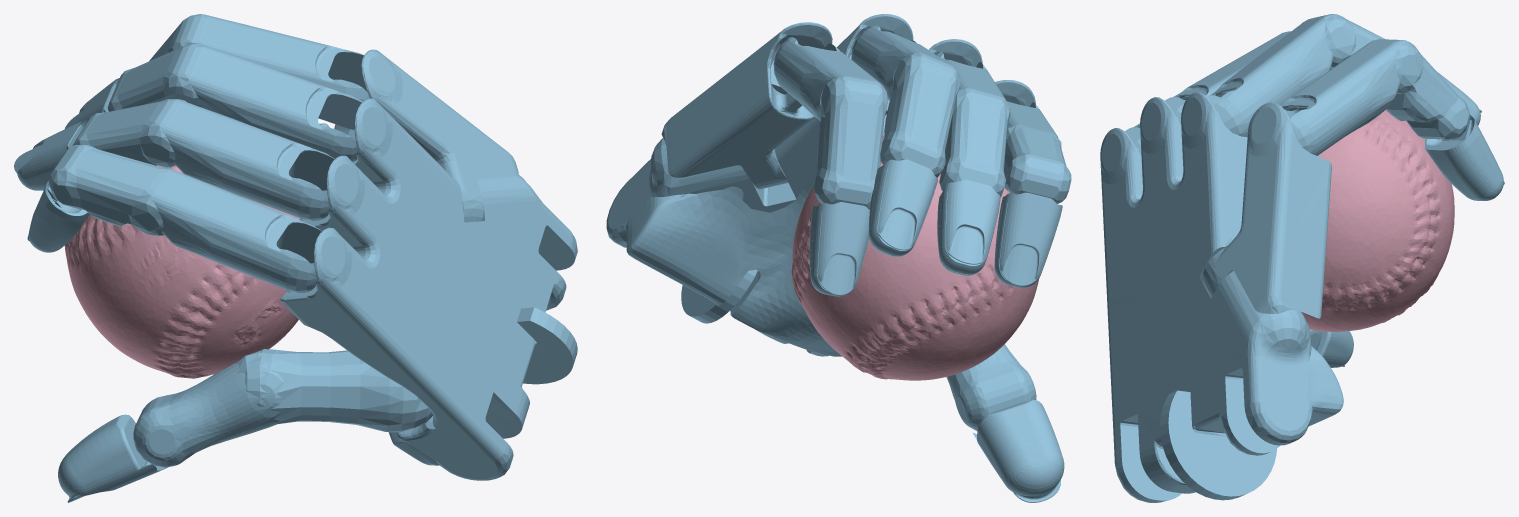
3 renders of one model, left to right at view 1: azimuth 30°, elevation 25°; view 2: azimuth 150°, elevation 25°; view 3: azimuth 270°, elevation 25°, orthographic. The views are drawn at different scales.
Parts seen in each view (by area): view 1: world; view 2: world; view 3: world.
Part boxes in pixels (box(x1,y1,x2,y2)): world: box(14, 14, 577, 502); world: box(606, 14, 1071, 502); world: box(1100, 14, 1504, 502).
Size of the model in its own units: 0.163 by 0.1341 by 0.121.
